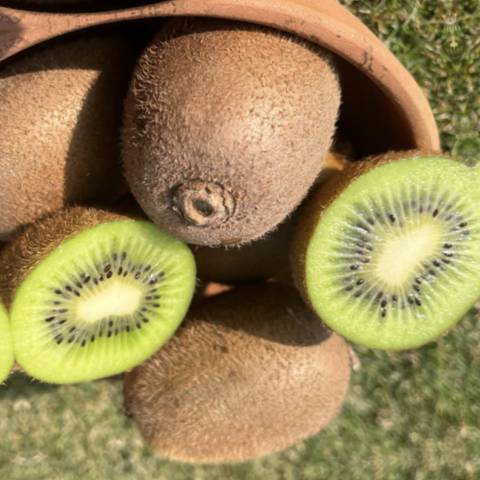kiwi: (88, 0, 375, 299), (104, 262, 387, 480)
